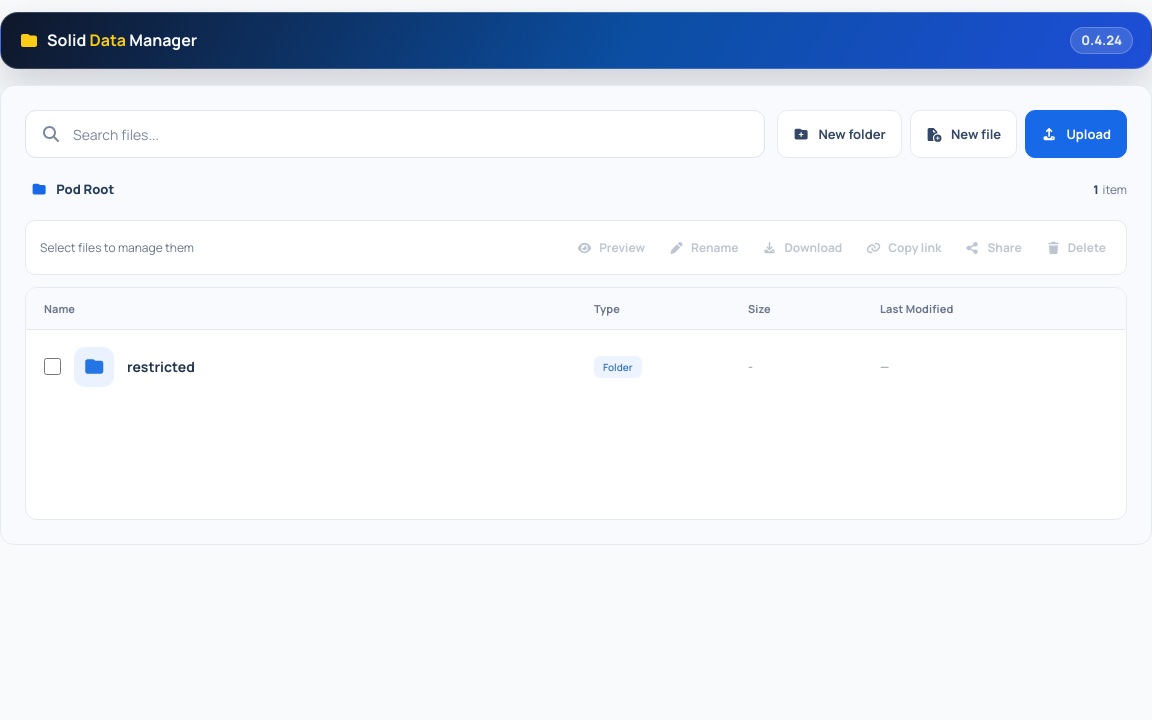
keeps the parent breadcrumb and listing when opening a folder returns 403
Click the button "restricted": [161, 367] box [127,355,195,378]
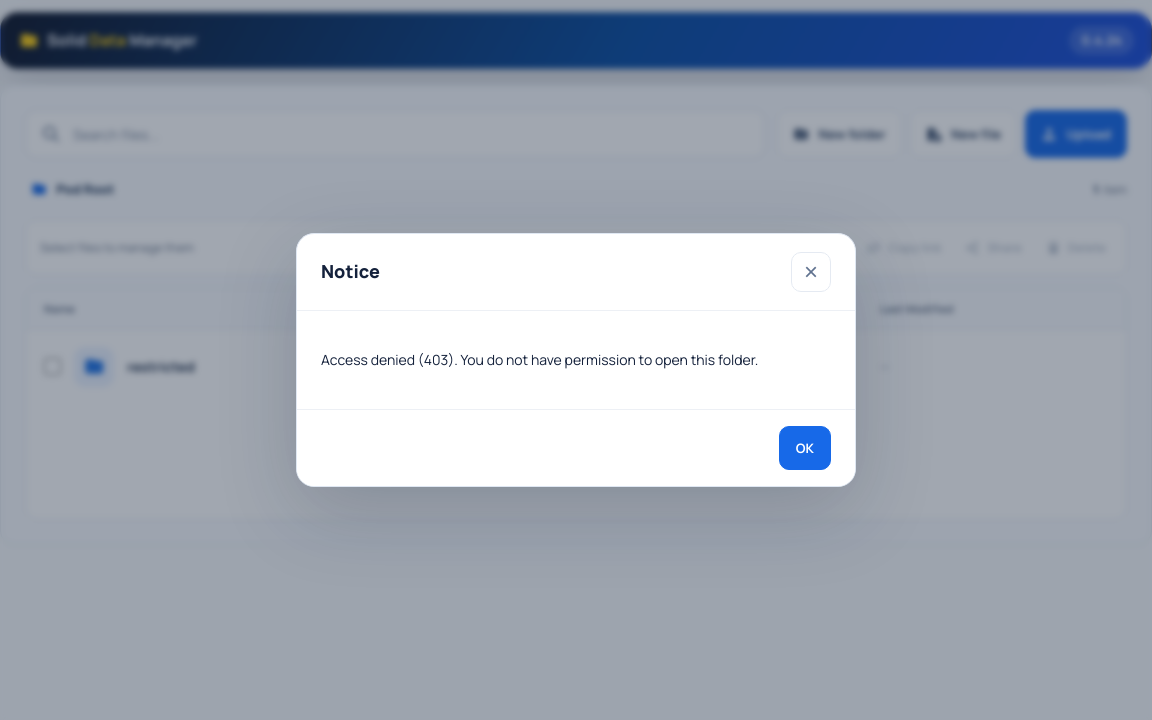
expect the navigation bar with class "crumb" reads "Pod Root": met, box [56,180,114,198]
expect the text "Access denied (403). You do not have permission to open this folder." is shown: met, box [321,349,831,371]
